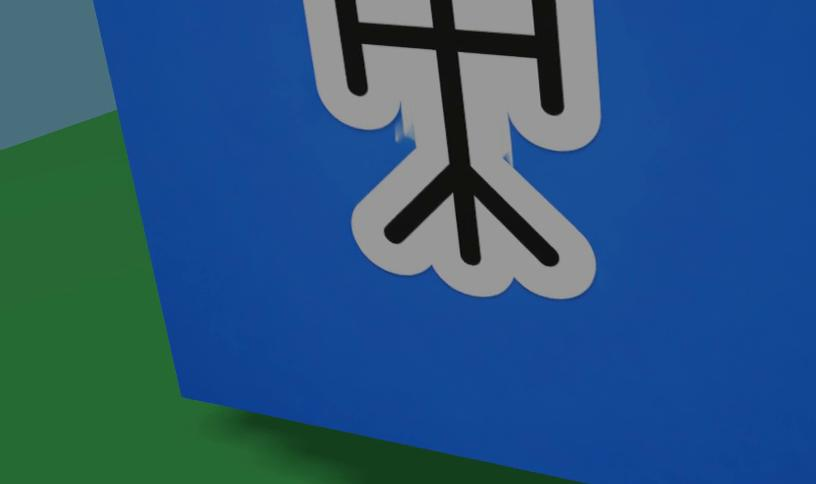KFS_REAL: (91, 0, 816, 483), (305, 0, 600, 298)
